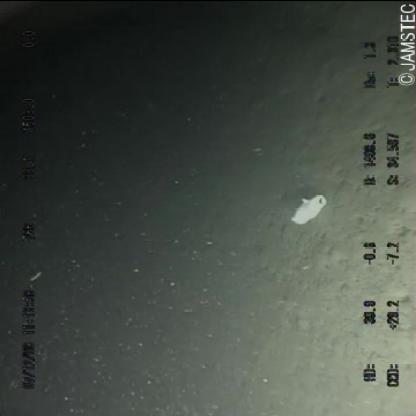Rác: (284, 191, 330, 227)
